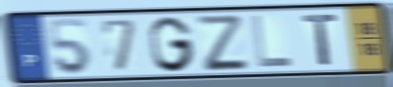5: (46, 15, 95, 78)
7: (100, 17, 138, 73)
G: (147, 14, 197, 74)
L: (250, 13, 296, 70)
T: (300, 12, 341, 67)
Z: (192, 14, 252, 73)
